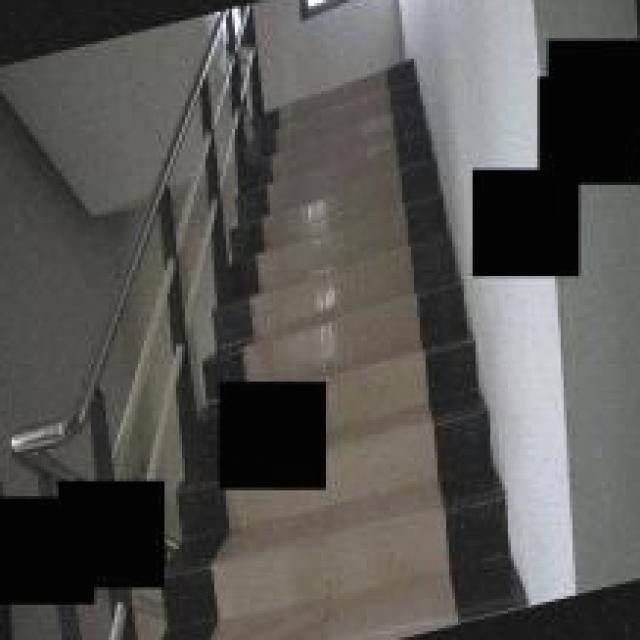upstair: (266, 101, 442, 368)
